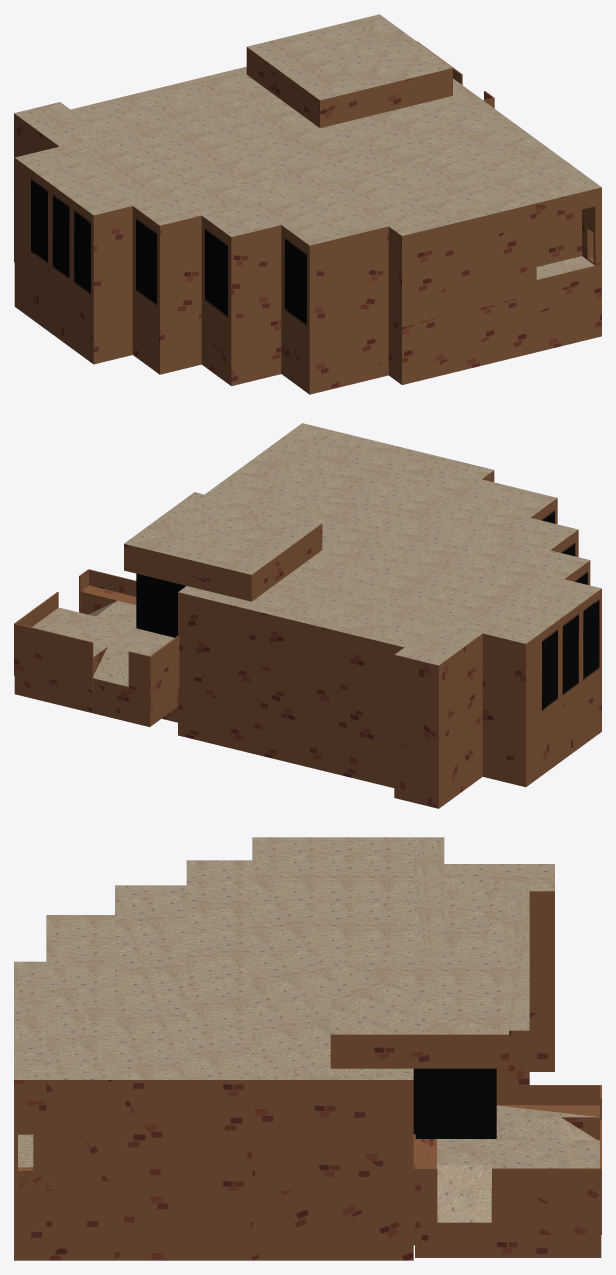
Rendered from library.obj.
3 renders of one model, top to bottom at view 1: azimuth 30°, elevation 25°; view 2: azimuth 150°, elevation 25°; view 3: azimuth 270°, elevation 25°, orthographic. The views are drawn at different scales.
Visible parts, largest first — view 1: No_Name; view 2: No_Name; view 3: No_Name.
Boxes of the visible parts, x1=… form: No_Name: x1=14, y1=14, x2=601, y2=394; No_Name: x1=14, y1=423, x2=601, y2=808; No_Name: x1=14, y1=837, x2=601, y2=1260.
Bounding box in the file's own units: 39.87 × 14.44 × 35.79.
